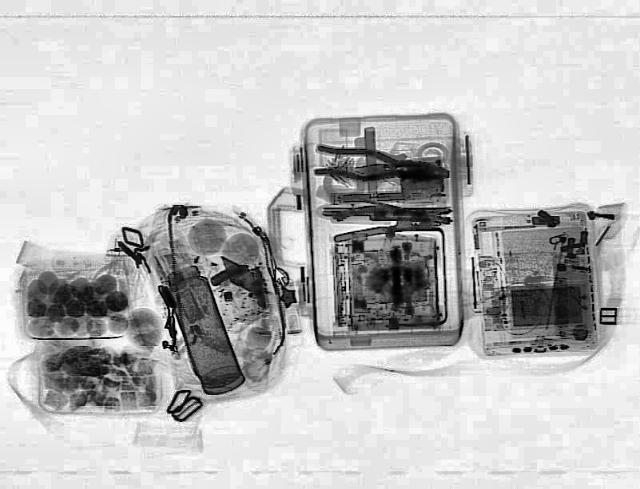Pliers: (311, 142, 453, 188)
